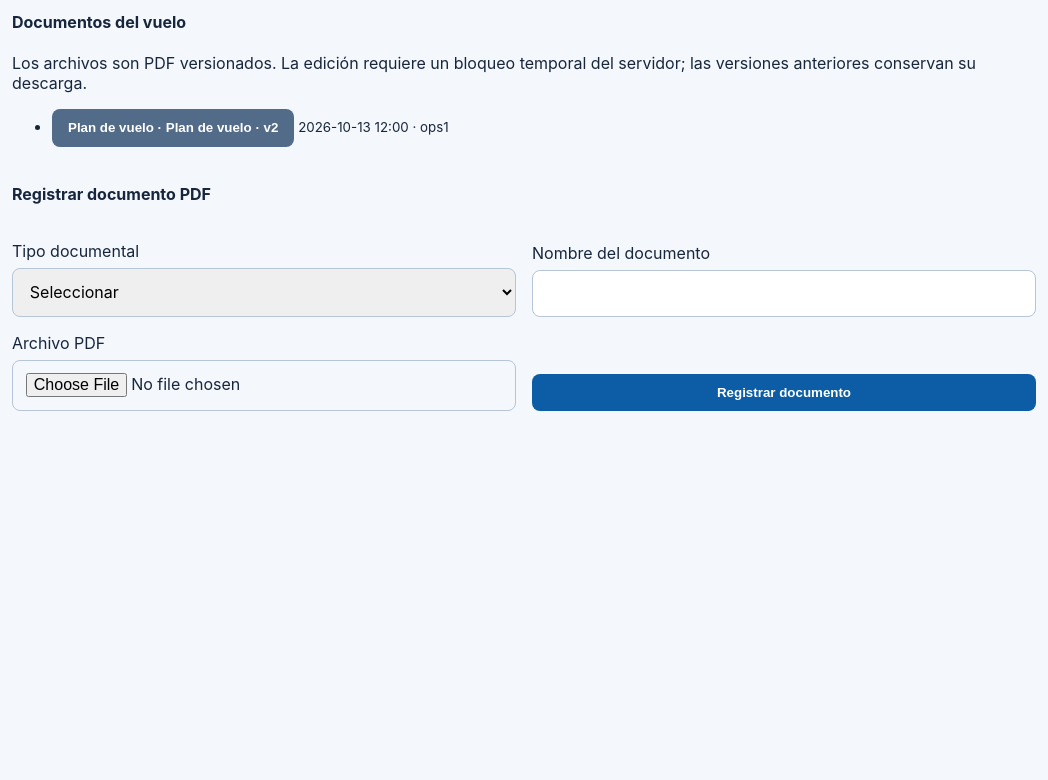
Test case: another user's active lease blocks editing and shows its owner
Click the button "Plan de vuelo · Plan de vuelo · v2": (173, 128) x1=52 y1=109 x2=294 y2=147
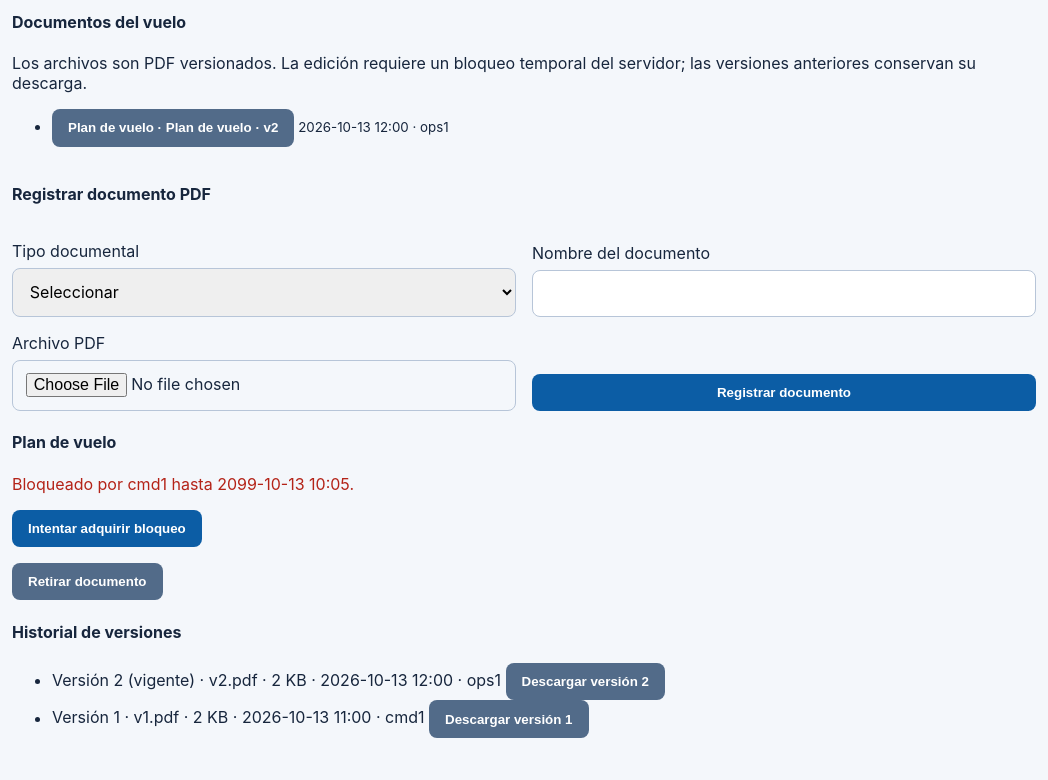
Expected: the text "Bloqueado por cmd1 hasta 2099-10-13 10:05." is shown, x1=12 y1=474 x2=354 y2=494
